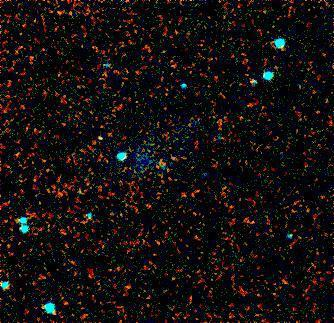star: (85, 123, 115, 153)
